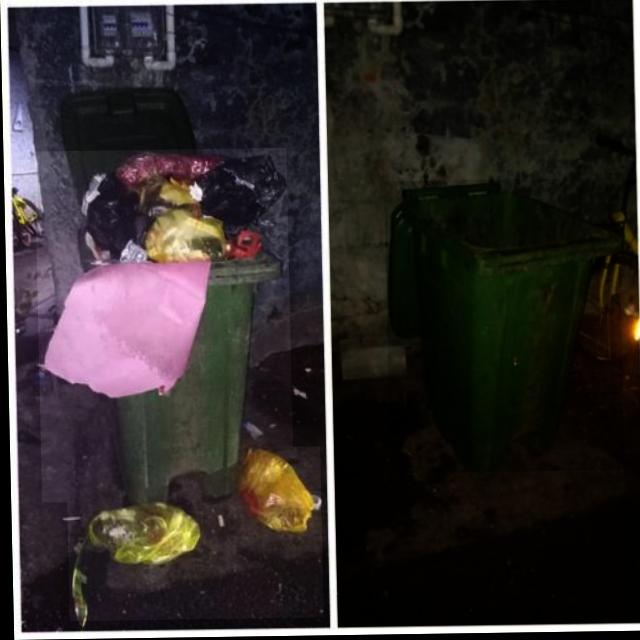garbage: (64, 447, 321, 621)
garbage_bin: (384, 180, 623, 475)
overflow: (34, 149, 292, 503)
